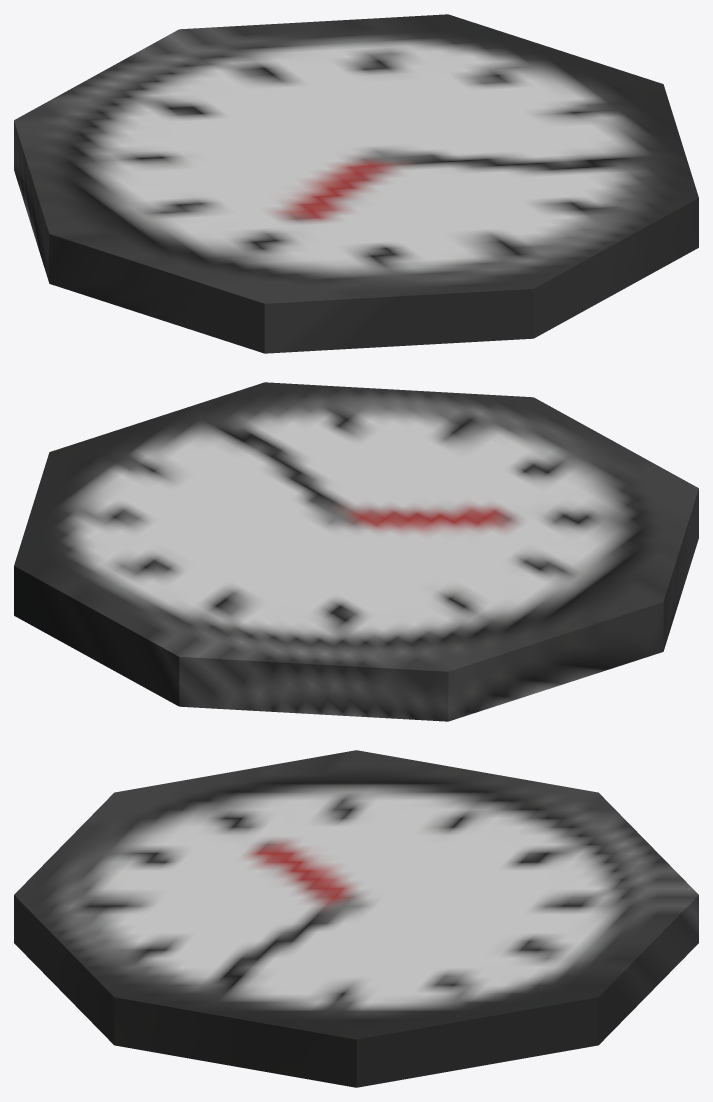
Rendered from pz_house_clock_round.obj.
3 views of the same model, one above another, from view 1: azimuth 30°, elevation 25°; view 2: azimuth 150°, elevation 25°; view 3: azimuth 270°, elevation 25° (orthographic). The views are drawn at different scales.
Visible parts, largest first — view 1: pz_house_clock_round_|_1_parte_1; view 2: pz_house_clock_round_|_1_parte_1; view 3: pz_house_clock_round_|_1_parte_1.
Part boxes in pixels (<box>): pz_house_clock_round_|_1_parte_1: <box>14,14,698,353</box>; pz_house_clock_round_|_1_parte_1: <box>14,382,698,721</box>; pz_house_clock_round_|_1_parte_1: <box>14,750,698,1087</box>.
Size of the model in its own units: 0.5156 by 0.04 by 0.5156.
1 material, 1 textured.
